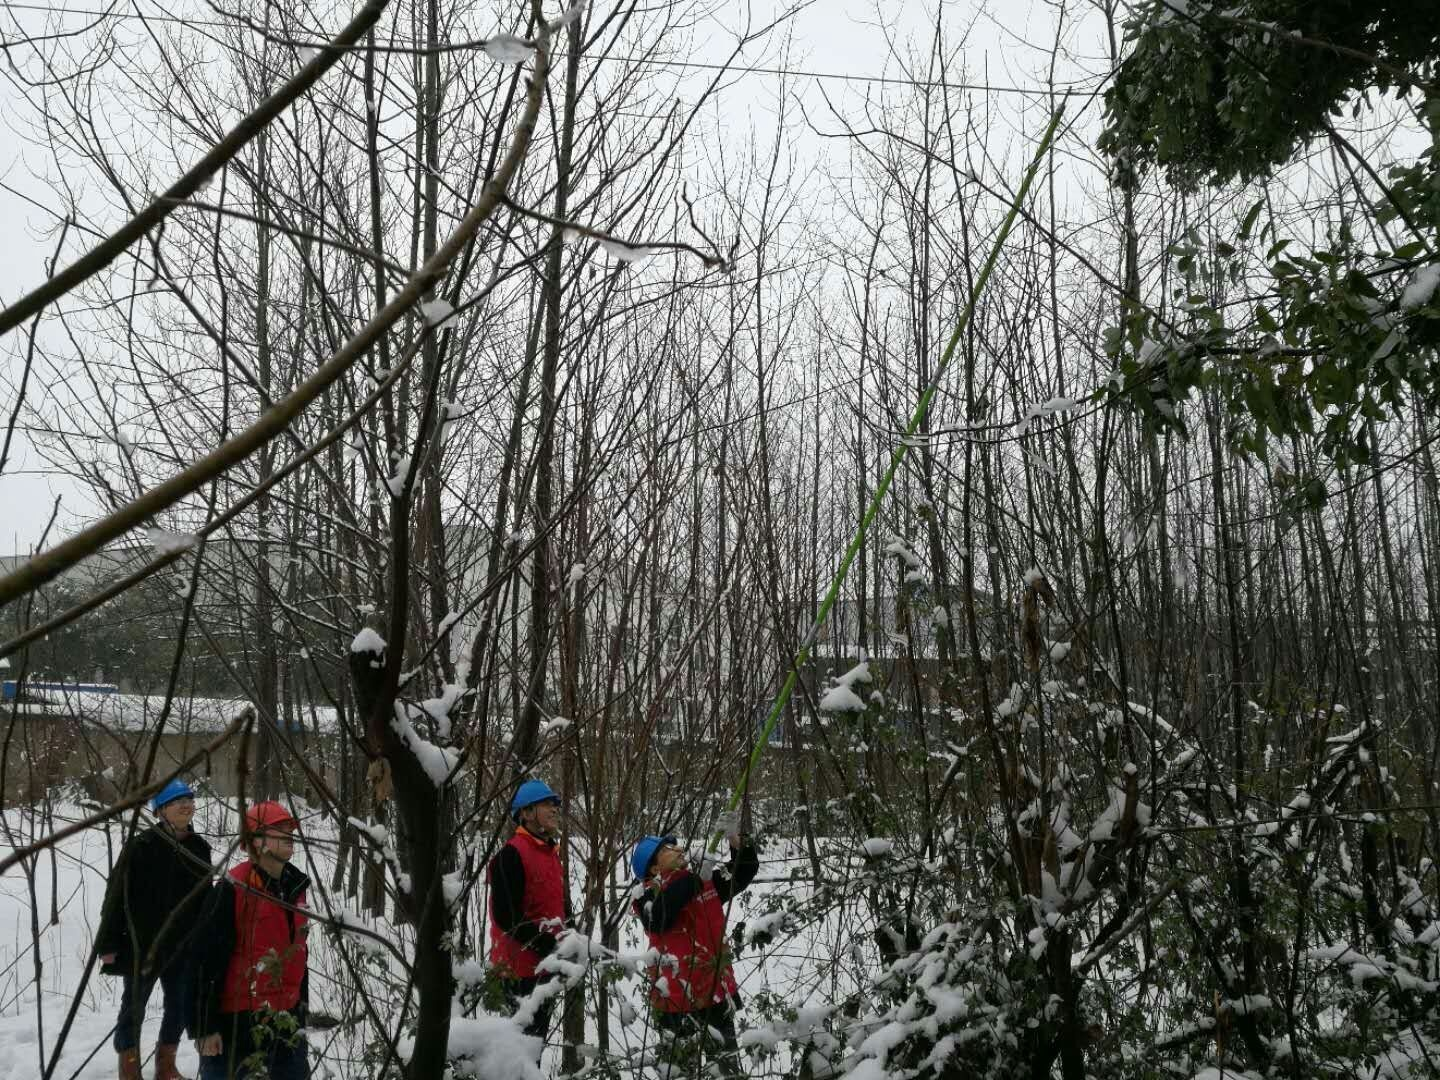blue: (508, 777, 559, 834), (149, 775, 198, 829), (634, 832, 685, 884)
red: (234, 798, 298, 871)
